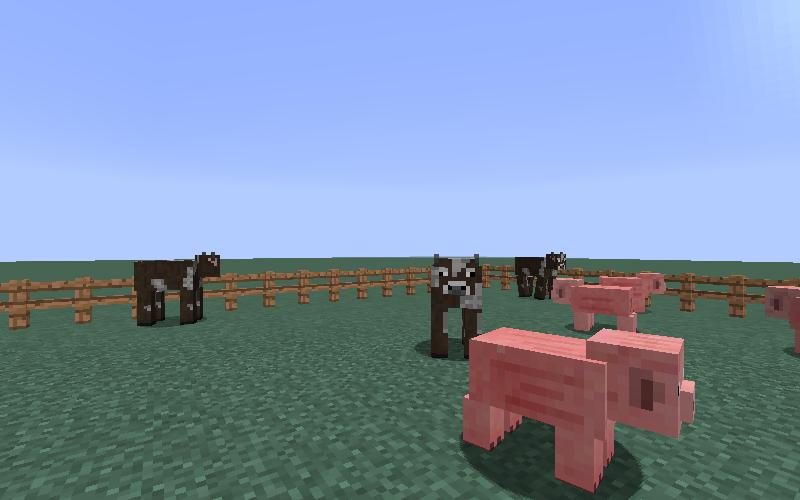cow: (129, 243, 226, 333), (427, 253, 485, 360), (515, 252, 566, 300)
pig: (456, 328, 697, 496), (549, 275, 639, 340)
